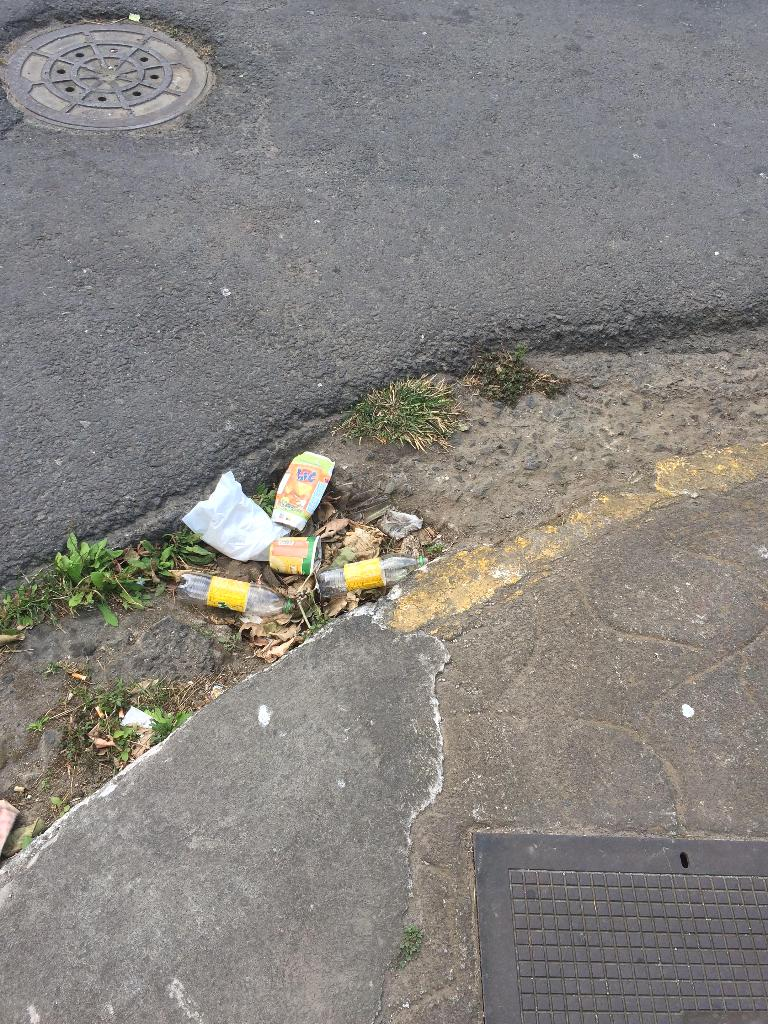garbage: (175, 466, 292, 574), (165, 559, 304, 633), (316, 546, 433, 605), (269, 450, 342, 529), (178, 571, 296, 616), (317, 553, 428, 598)
